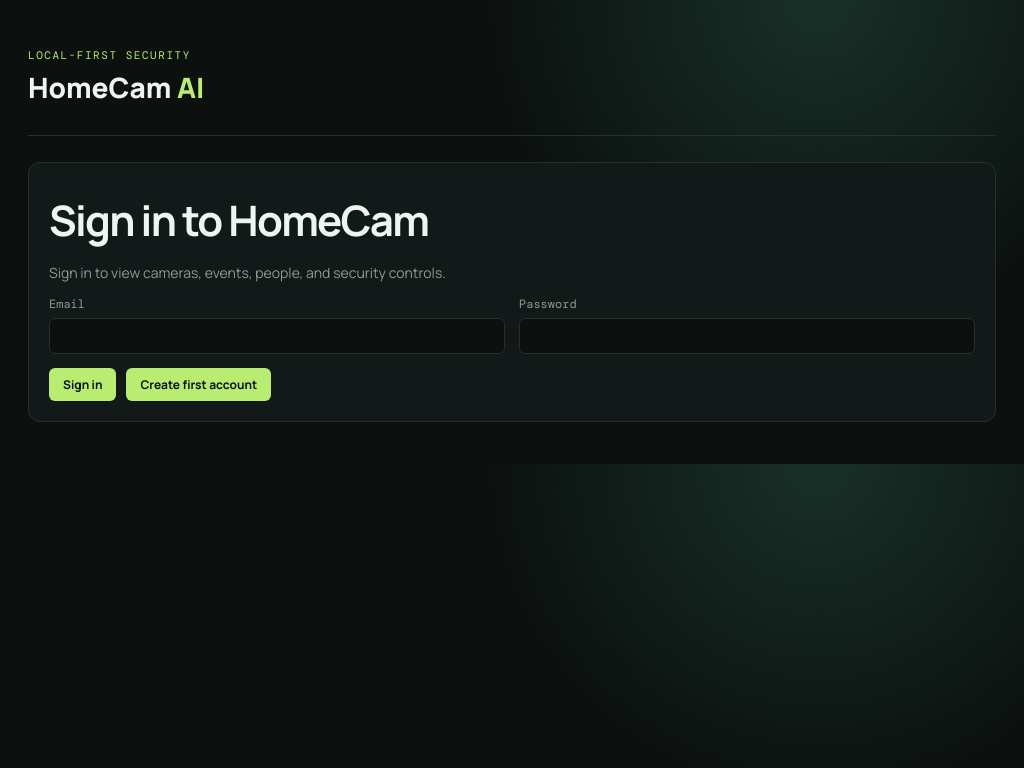
Test: google sign-in › explains disabled or unapproved accounts on password sign-in
Type "user@example.com" into the field labelled "Email" at (277, 336), box [49,318,505,354]
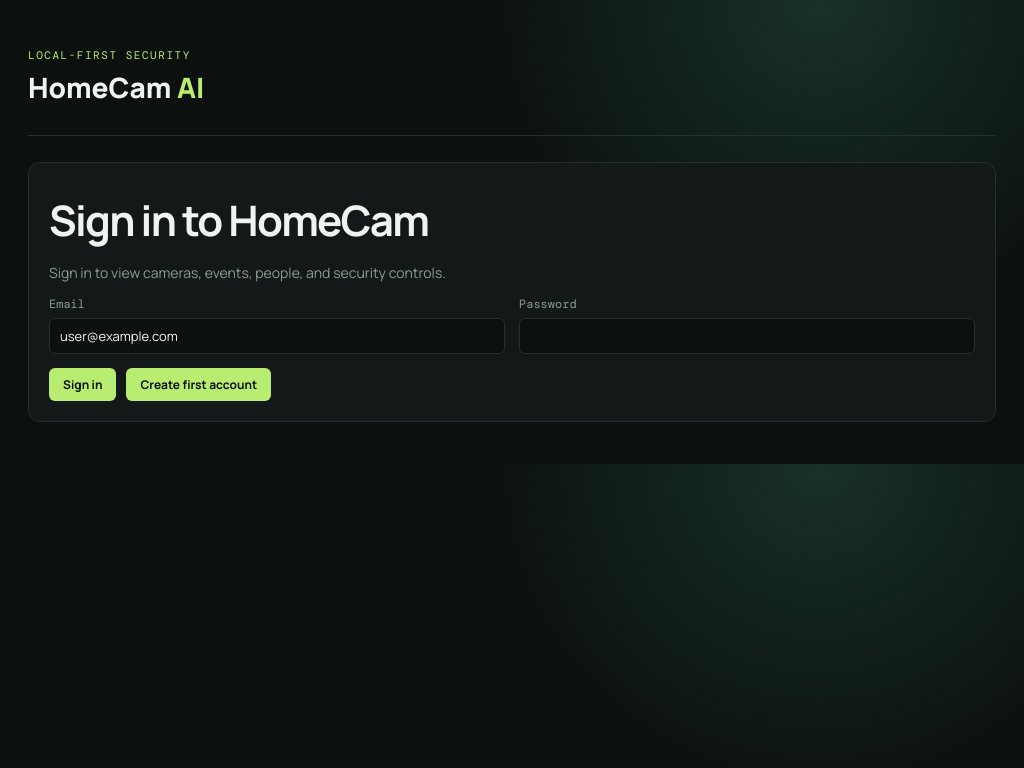
Type "password" into the password field labelled "Password" at (747, 336), box [519,318,975,354]
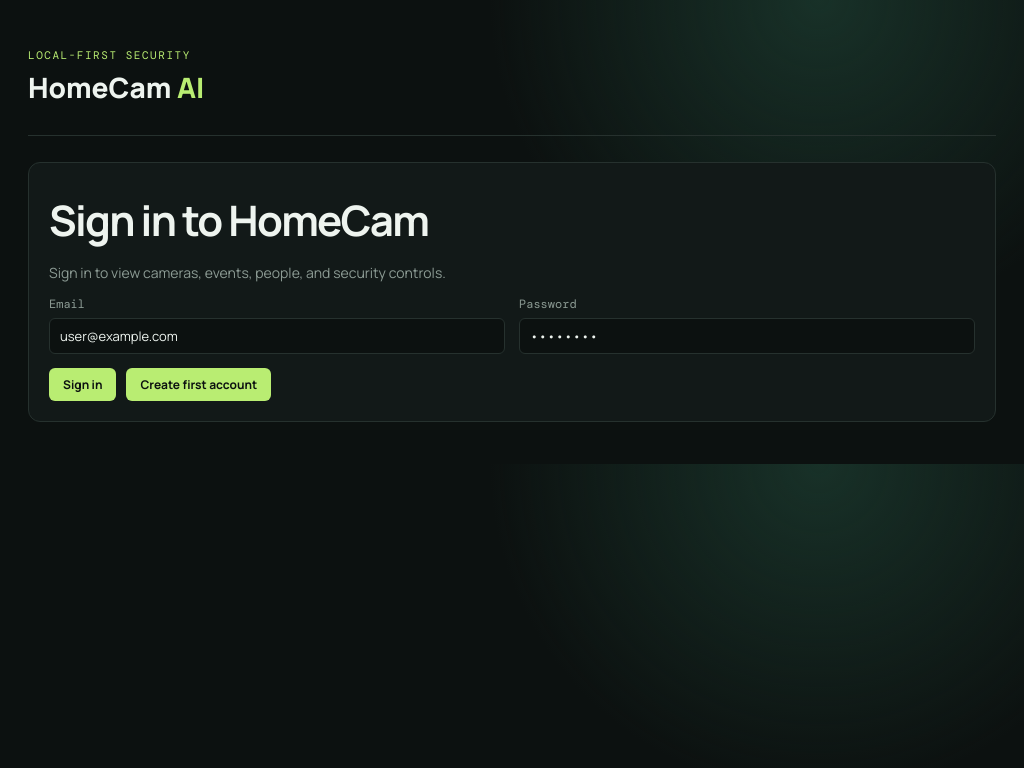
Click the button "Sign in" at (83, 384), box [49,368,116,401]
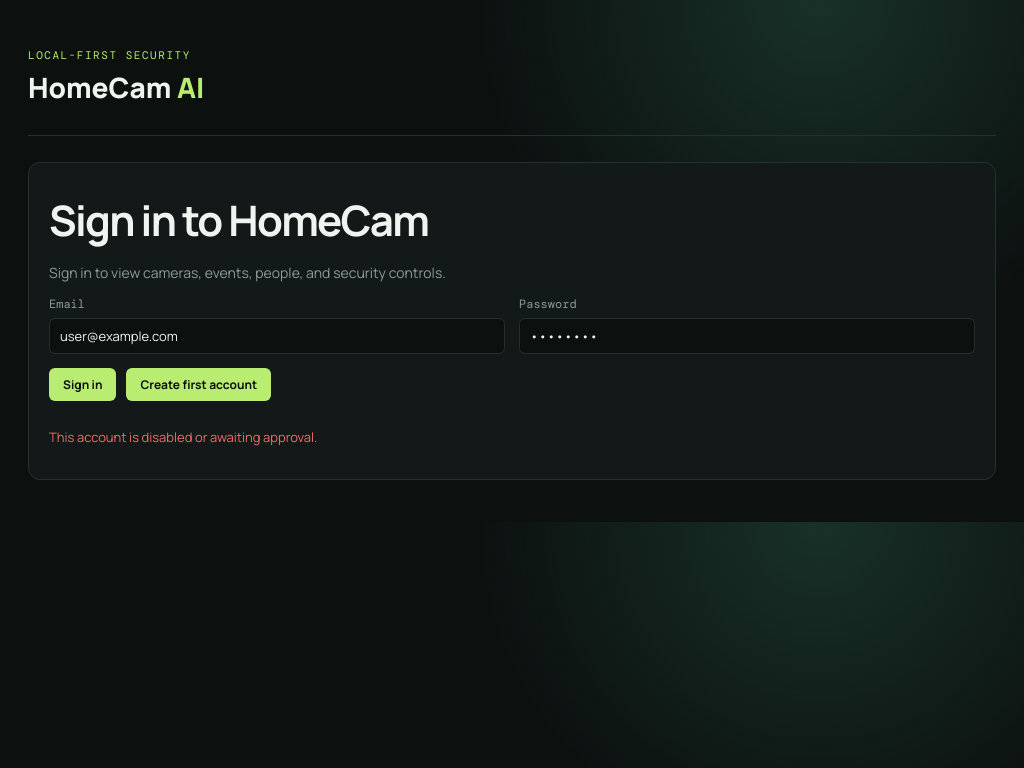
Result: the text "This account is disabled or awaiting approval." is shown at [49,428,317,446]
